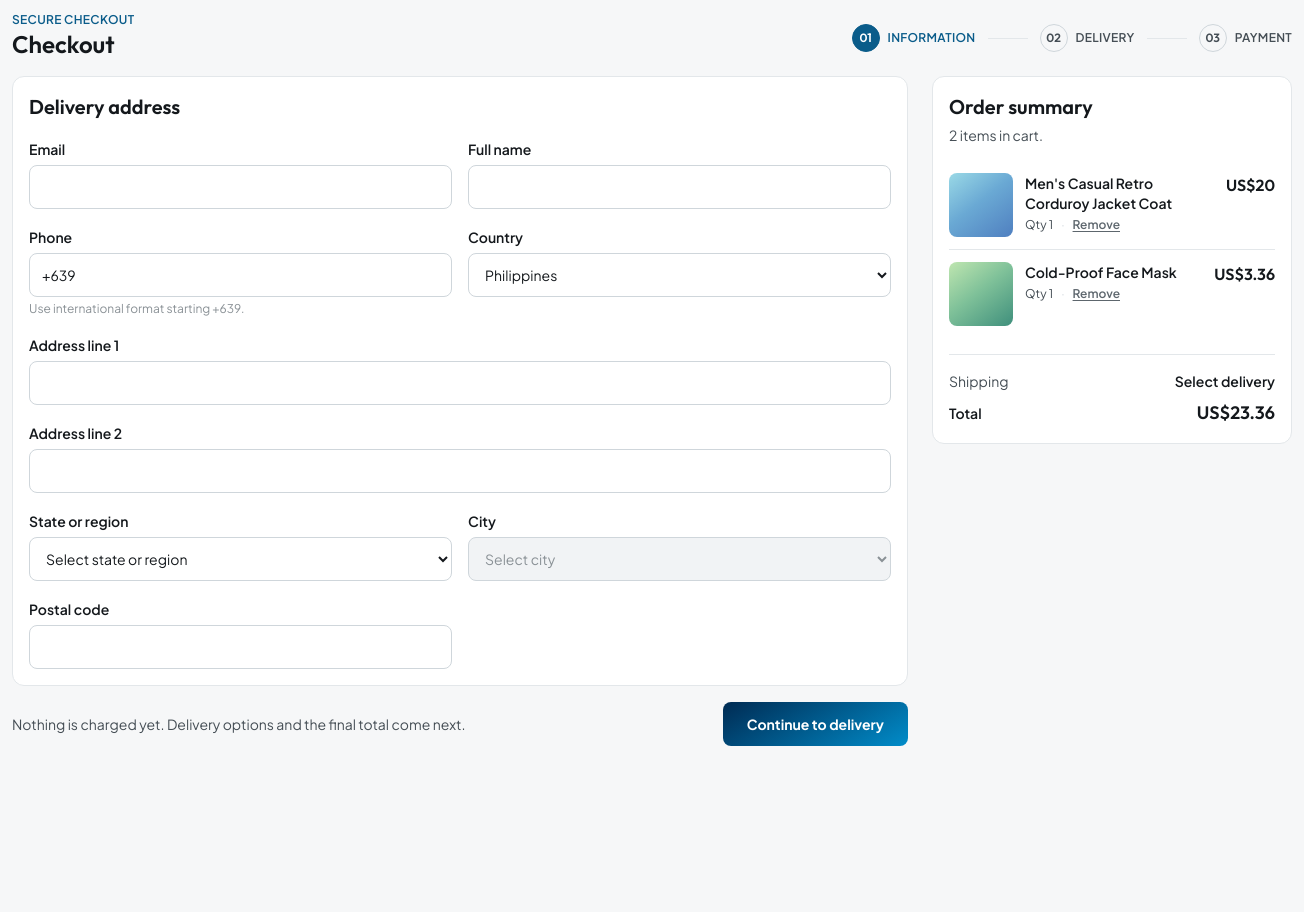
checkout flow across routes › drops a line from the order summary and updates the total
expect the text "2 items in cart." is shown: met, box x1=949 y1=126 x2=1043 y2=144
expect the text "US$23.36" is shown: met, box x1=1197 y1=399 x2=1275 y2=427
Step 1. Click the button "Remove" below "Cold-Proof Face Mask" → (1096, 294), box x1=1073 y1=286 x2=1120 y2=302
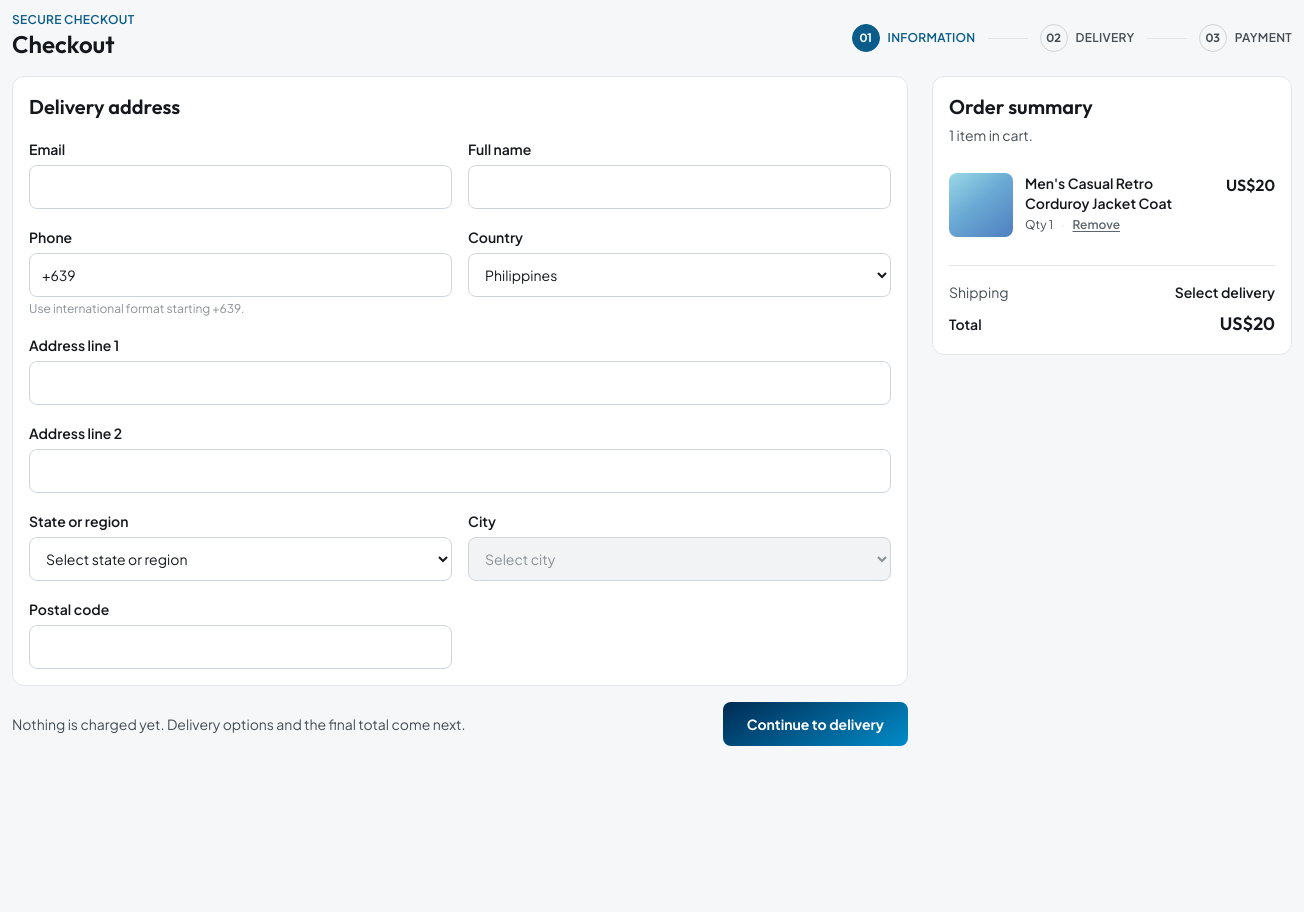
expect the text "1 item in cart." is shown: met, box x1=949 y1=126 x2=1033 y2=144
expect the text "Cold-Proof Face Mask" is gone: met
expect the text "US$20" is shown 2 times: met, box x1=1226 y1=175 x2=1275 y2=195; x1=1220 y1=310 x2=1275 y2=338
